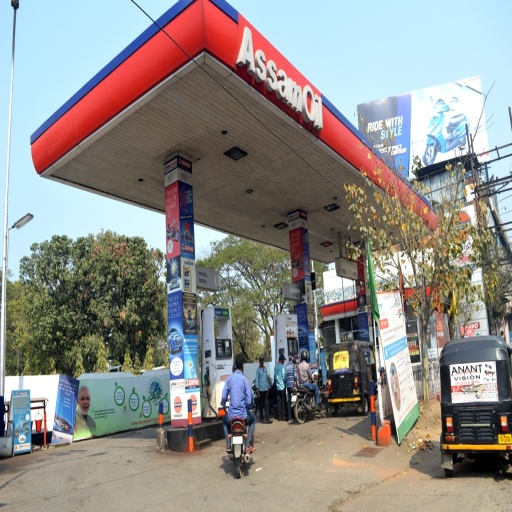roof: (31, 1, 441, 263)
